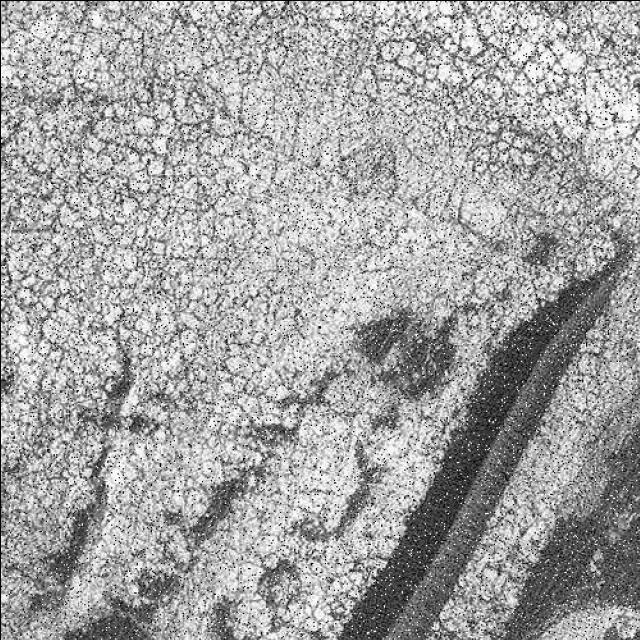crater: (215, 104, 640, 640), (586, 594, 640, 640), (612, 612, 640, 640)
